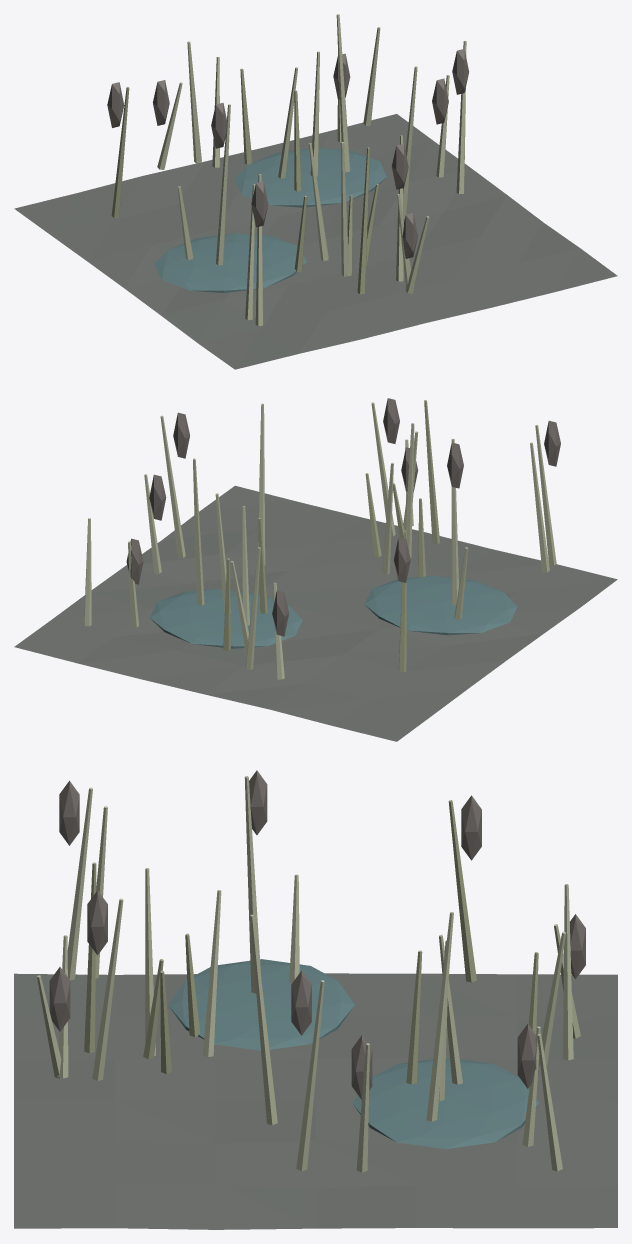
Rendered from tser_cattail_reeds.glb.
The picture shows the model from 3 angles, top to bottom: view 1: azimuth 30°, elevation 25°; view 2: azimuth 150°, elevation 25°; view 3: azimuth 270°, elevation 25°; orthographic projection. The views are drawn at different scales.
Parts seen in each view (by area): view 1: material_00, material_01, material_04, material_02, material_03; view 2: material_00, material_01, material_04, material_02, material_03; view 3: material_00, material_01, material_04, material_02, material_03.
Part boxes in pixels (x1,y1,x2,y2): material_00: (14, 114, 617, 369); material_01: (157, 14, 466, 325); material_04: (154, 148, 386, 292); material_02: (107, 49, 468, 258); material_03: (111, 68, 378, 294); material_00: (14, 485, 617, 741); material_01: (84, 402, 556, 679); material_04: (150, 575, 517, 648); material_02: (126, 398, 560, 636); material_03: (223, 400, 439, 672); material_00: (14, 973, 617, 1229); material_01: (37, 776, 580, 1172); material_04: (168, 959, 539, 1149); material_02: (49, 770, 585, 1099); material_03: (84, 800, 538, 1084).
Bounding box in the file's own units: 2 × 0.9216 × 2.
